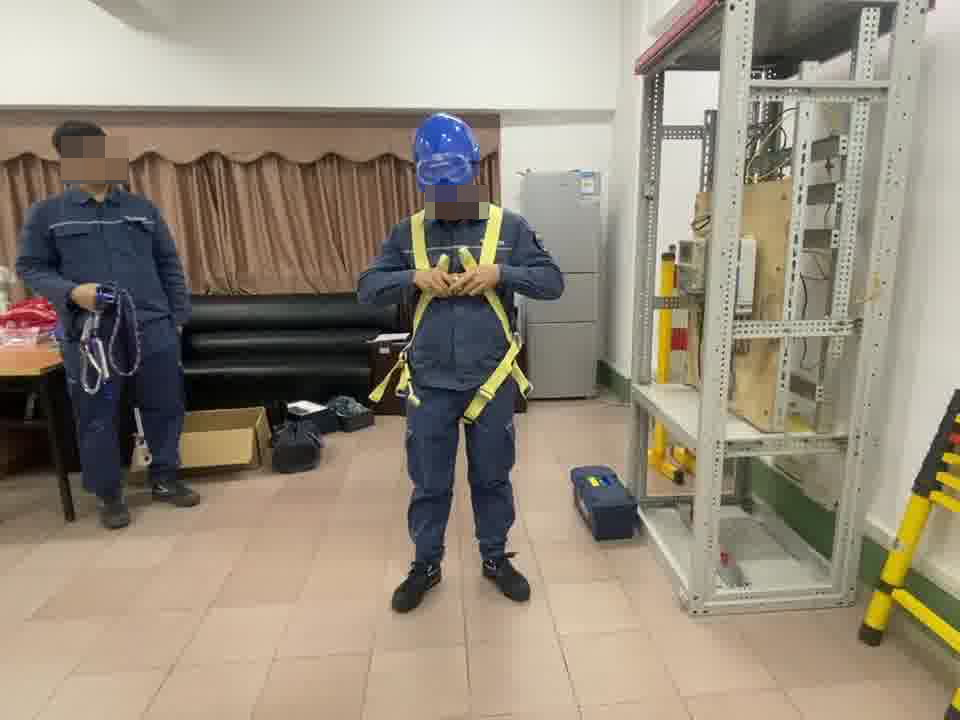downsuit: (400, 396, 522, 564), (69, 330, 190, 497)
halt: (411, 113, 484, 209), (52, 117, 120, 192)
hand: (449, 261, 503, 297), (415, 268, 457, 298), (71, 280, 103, 314)
noear: (51, 150, 80, 178)
person: (363, 110, 565, 606), (21, 117, 197, 516)
safebelt: (375, 202, 537, 424)
unhalt: (51, 118, 120, 192)
upsuit: (369, 200, 563, 379), (27, 191, 185, 327)
